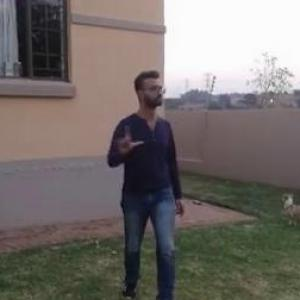land_hand: (111, 118, 145, 158)
